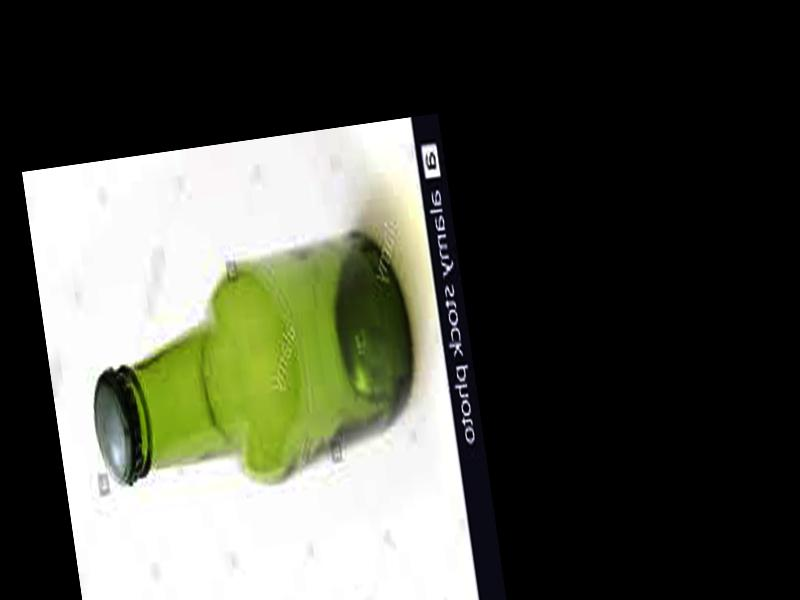Beer: (73, 228, 425, 489)
